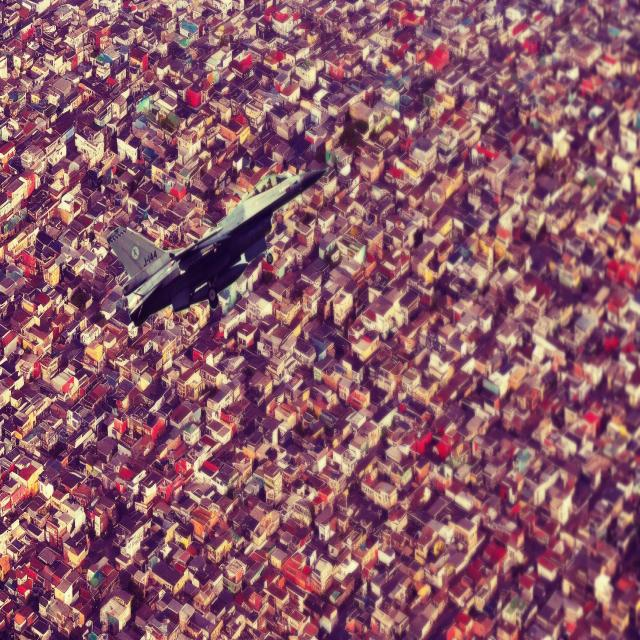airplane: (105, 159, 331, 325)
